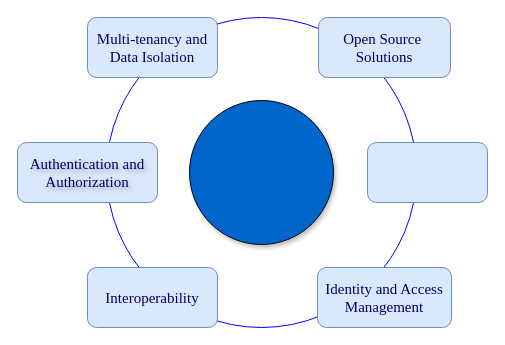
Some shapes in this 505 by 345 pixel diagram are drawn without their labels. The shapes that lost their labels are listed below. From the top down, each one's centre as x and y in pixels, then its label:
At pixel 262 174: "ARCHITECTURAL REQUIREMENTS".
At pixel 427 172: "High Availability".
